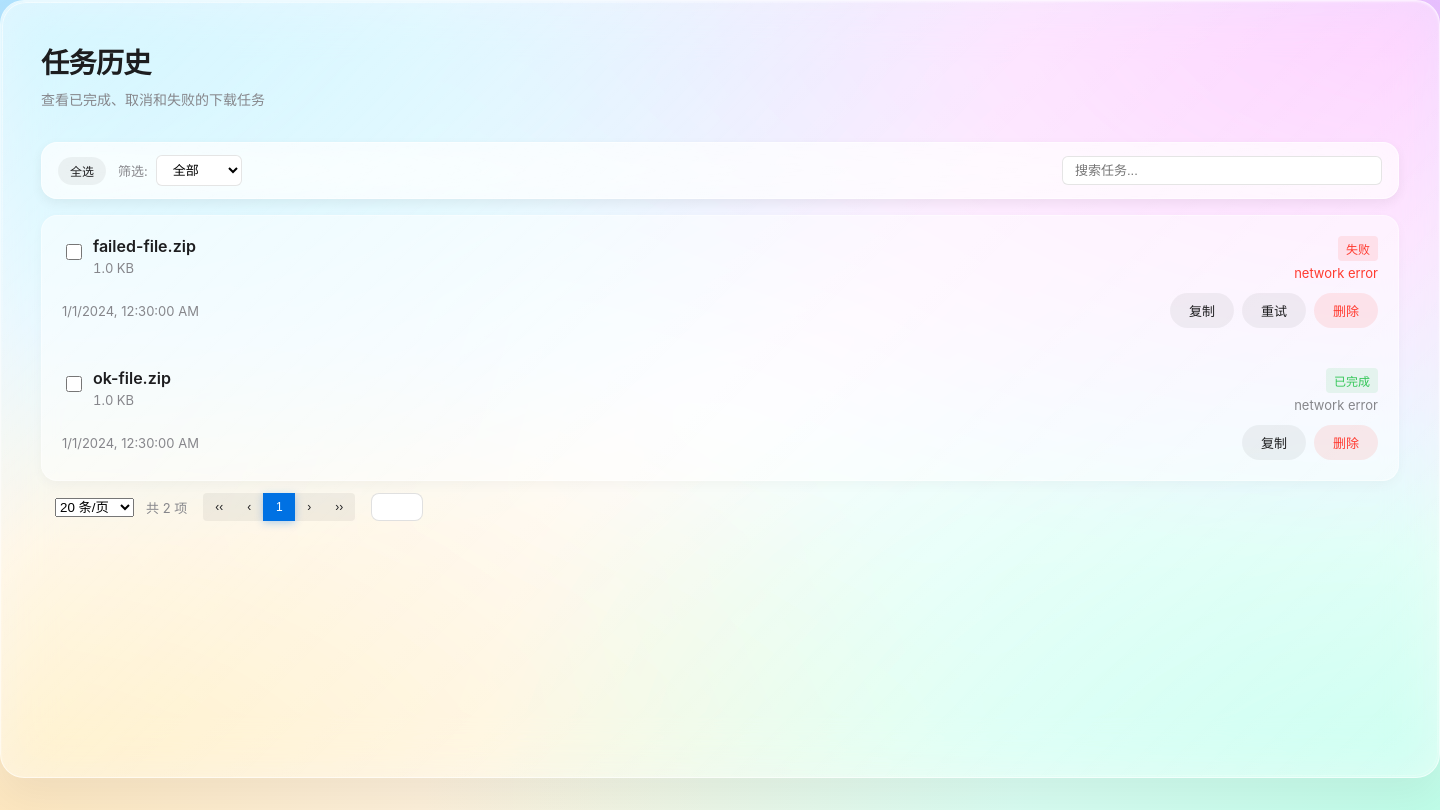
Test: HistoryPage › per-record actions › single delete clears the deleted record from selection
Check: the heading "failed-file.zip" is shown, box x1=93 y1=236 x2=196 y2=256
Click the checkbox named "选择 failed-file.zip".
click(74, 252)  # box x1=66 y1=244 x2=82 y2=260
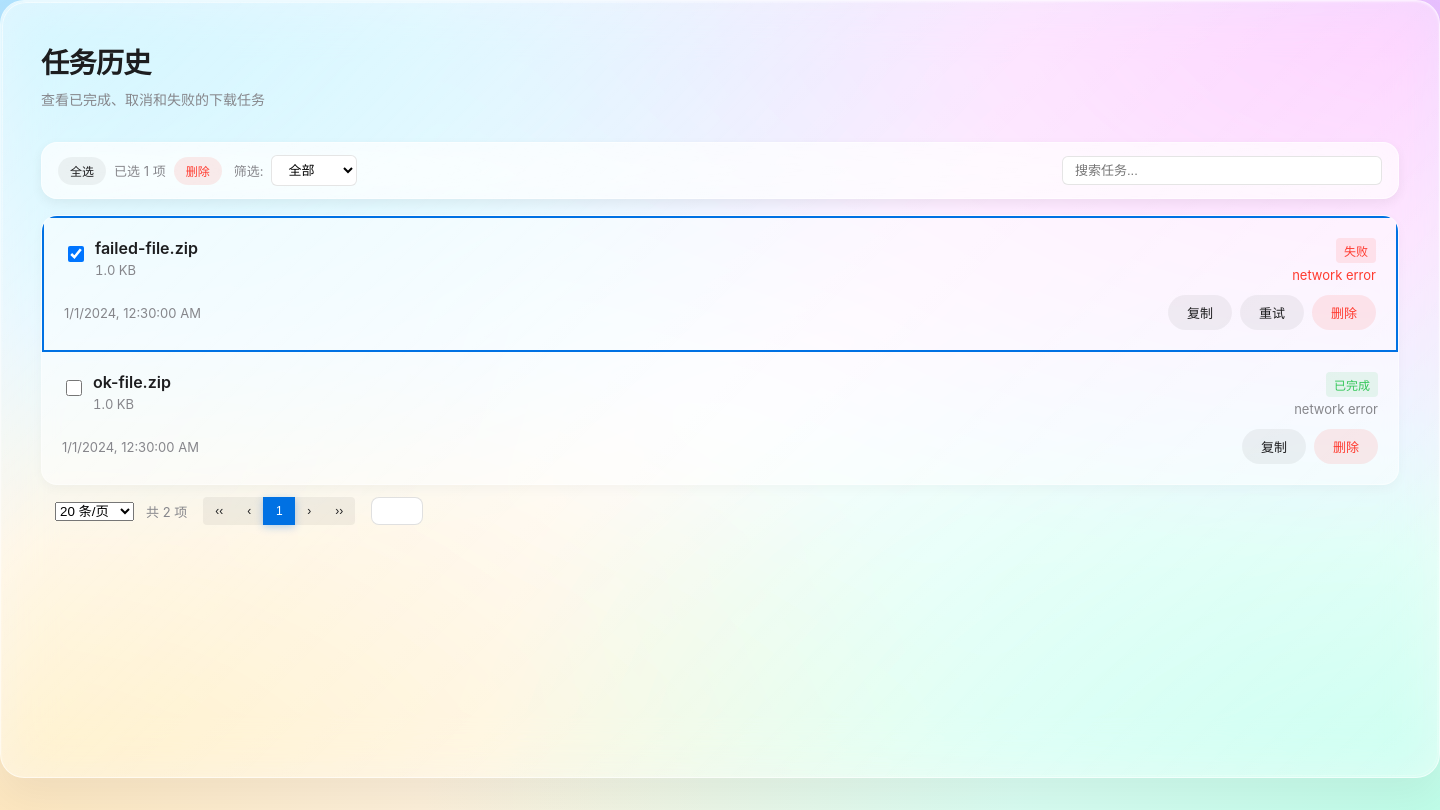
Check: the text "已选 1 项" is shown, box x1=114 y1=161 x2=166 y2=180
Click the 2nd button titled "删除这条历史记录".
click(1344, 312)  # box x1=1312 y1=295 x2=1376 y2=330
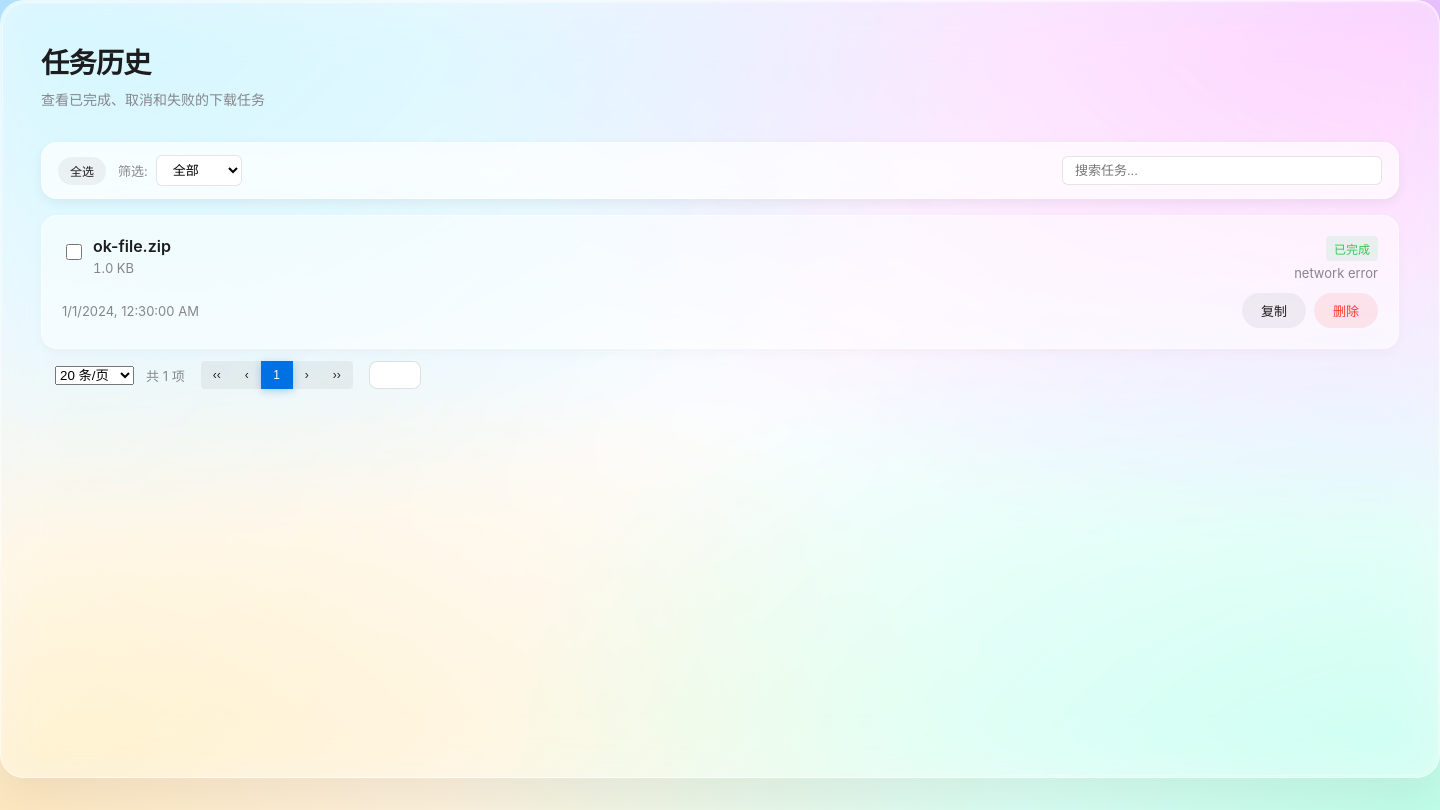
Check: the button "全选" is shown, box x1=58 y1=156 x2=106 y2=184
Check: the button "failed-file.zip" is gone
Check: the text "已选 1 项" is gone
